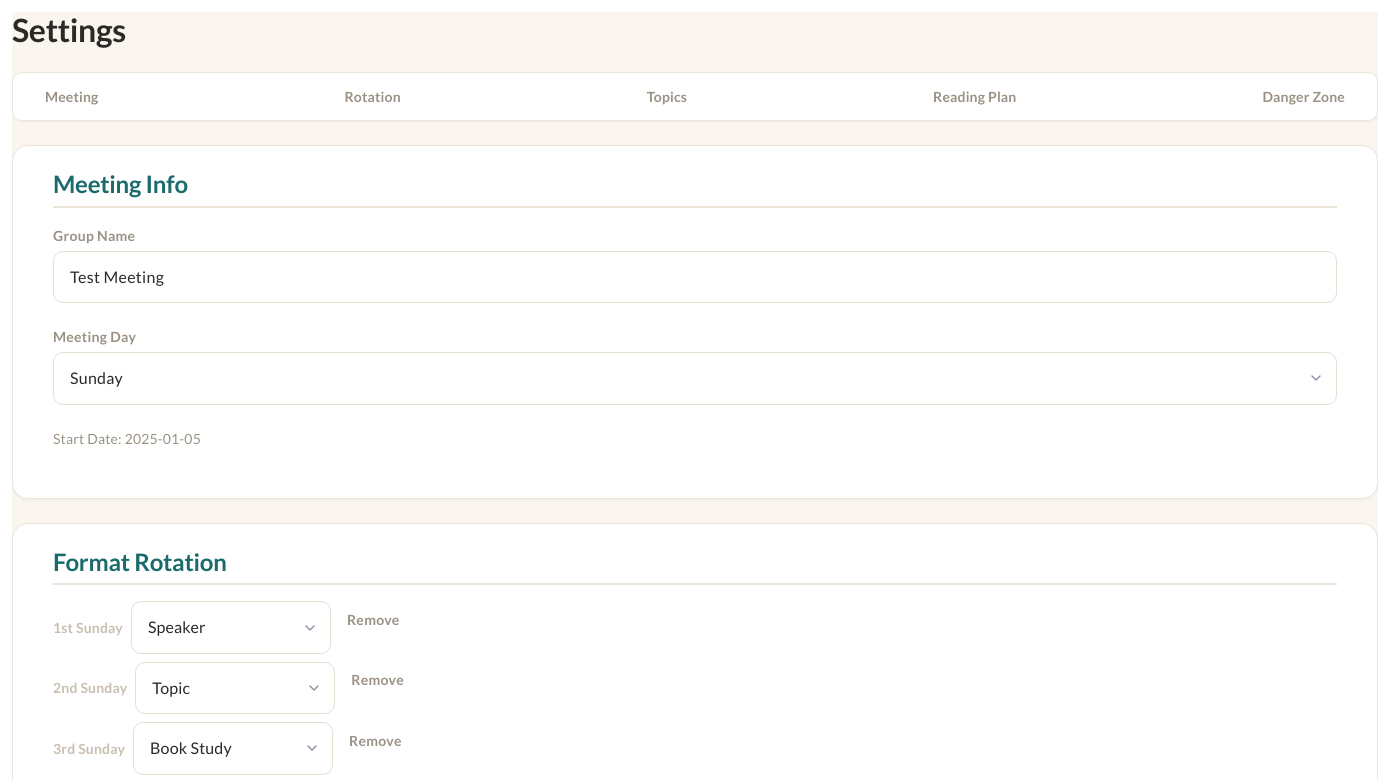
it: Settings › shows toast on save error
This screenshot has width=1378, height=780.
Replace the text in the field labelled "Group Name" with "New Name" at (695, 277), box [53,251,1337,303]
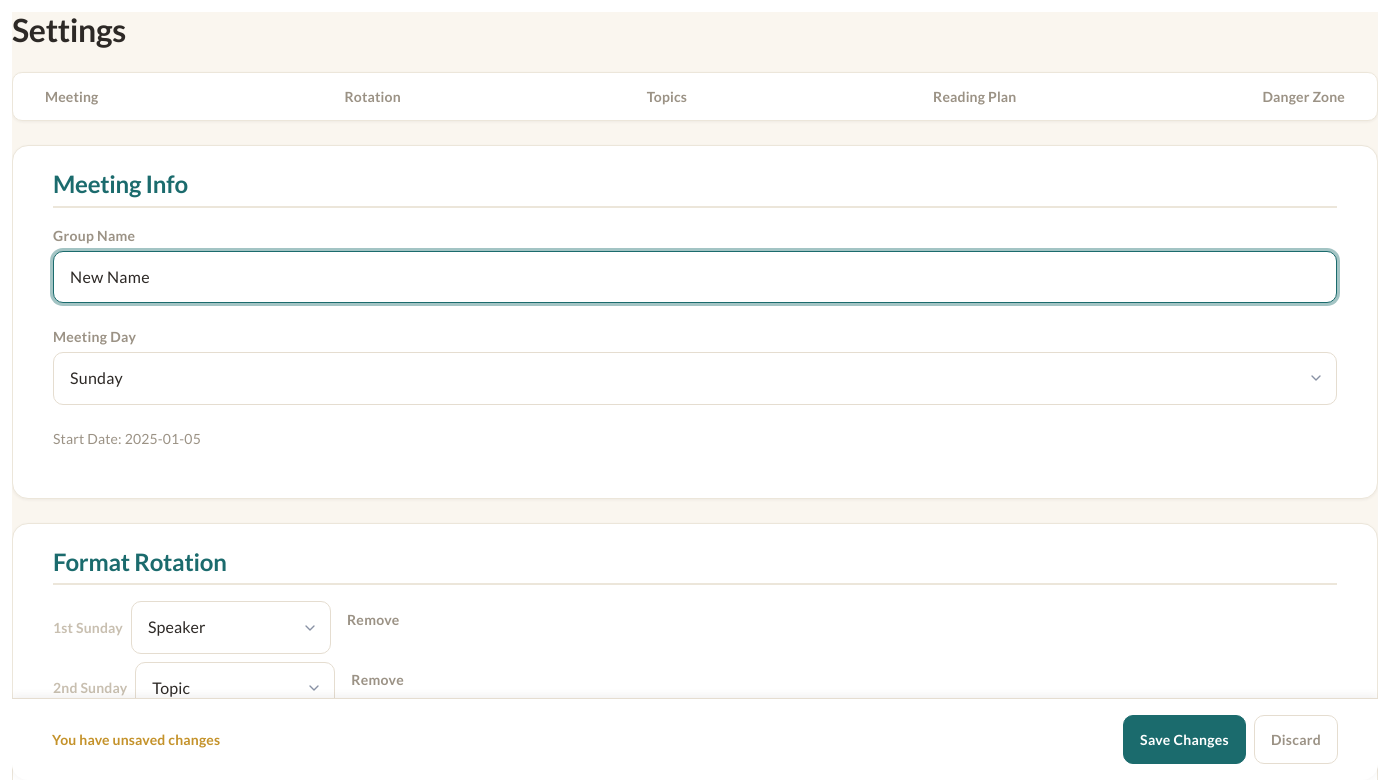
Click the button "Save Changes".
click(1185, 739)  # box [1123,715,1246,764]
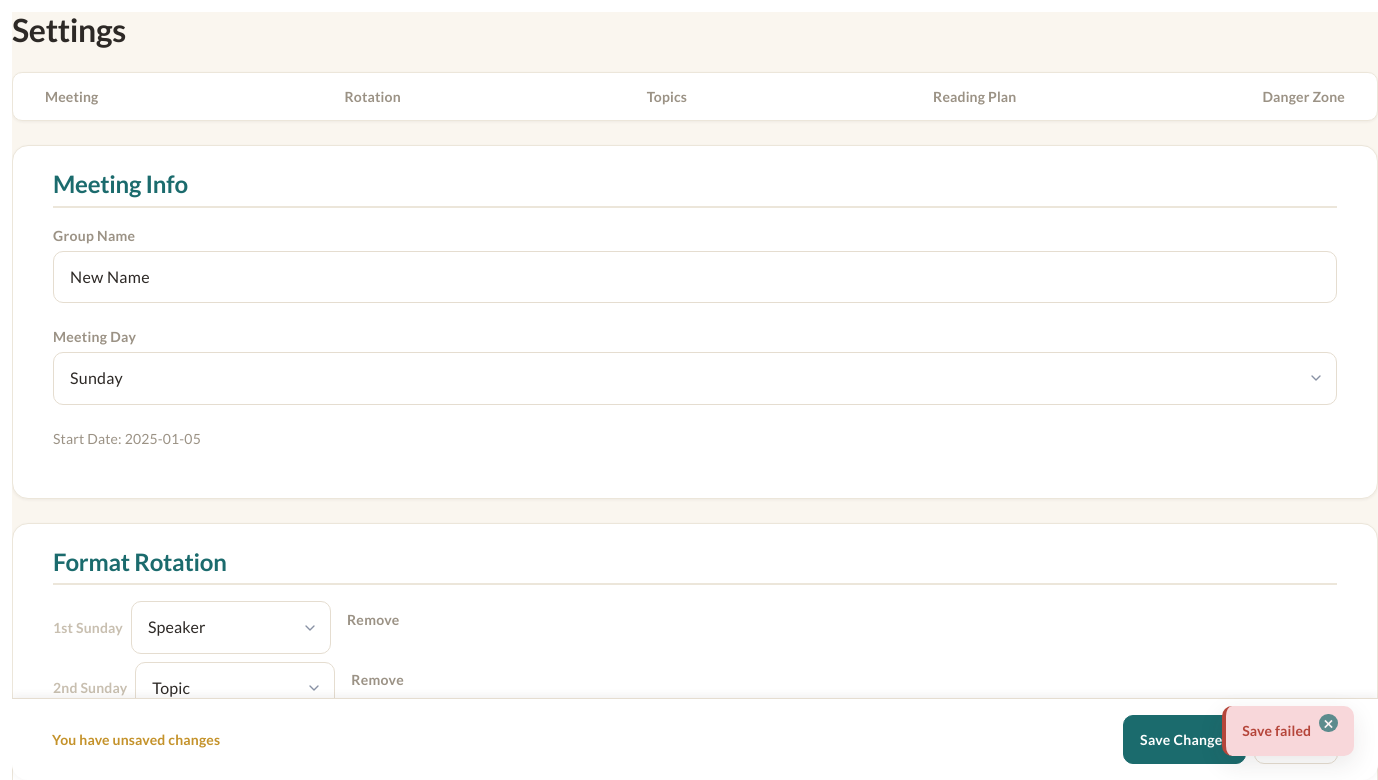
expect the text "Save failed" is shown: met, box [1242,720,1311,743]
